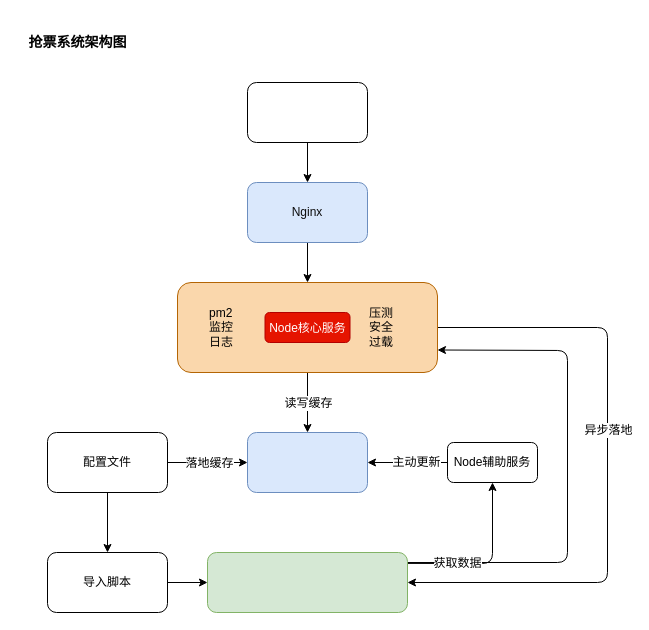
Image size: 649x630. Some labels were removed from this diagram. The shapes that lost their labels are listed below. From the top down, each one's centre as x and y in pixels, then its label:
At (x=307, y=112): "前端".
At (x=307, y=462): "Redis".
At (x=307, y=582): "MongoDB".
